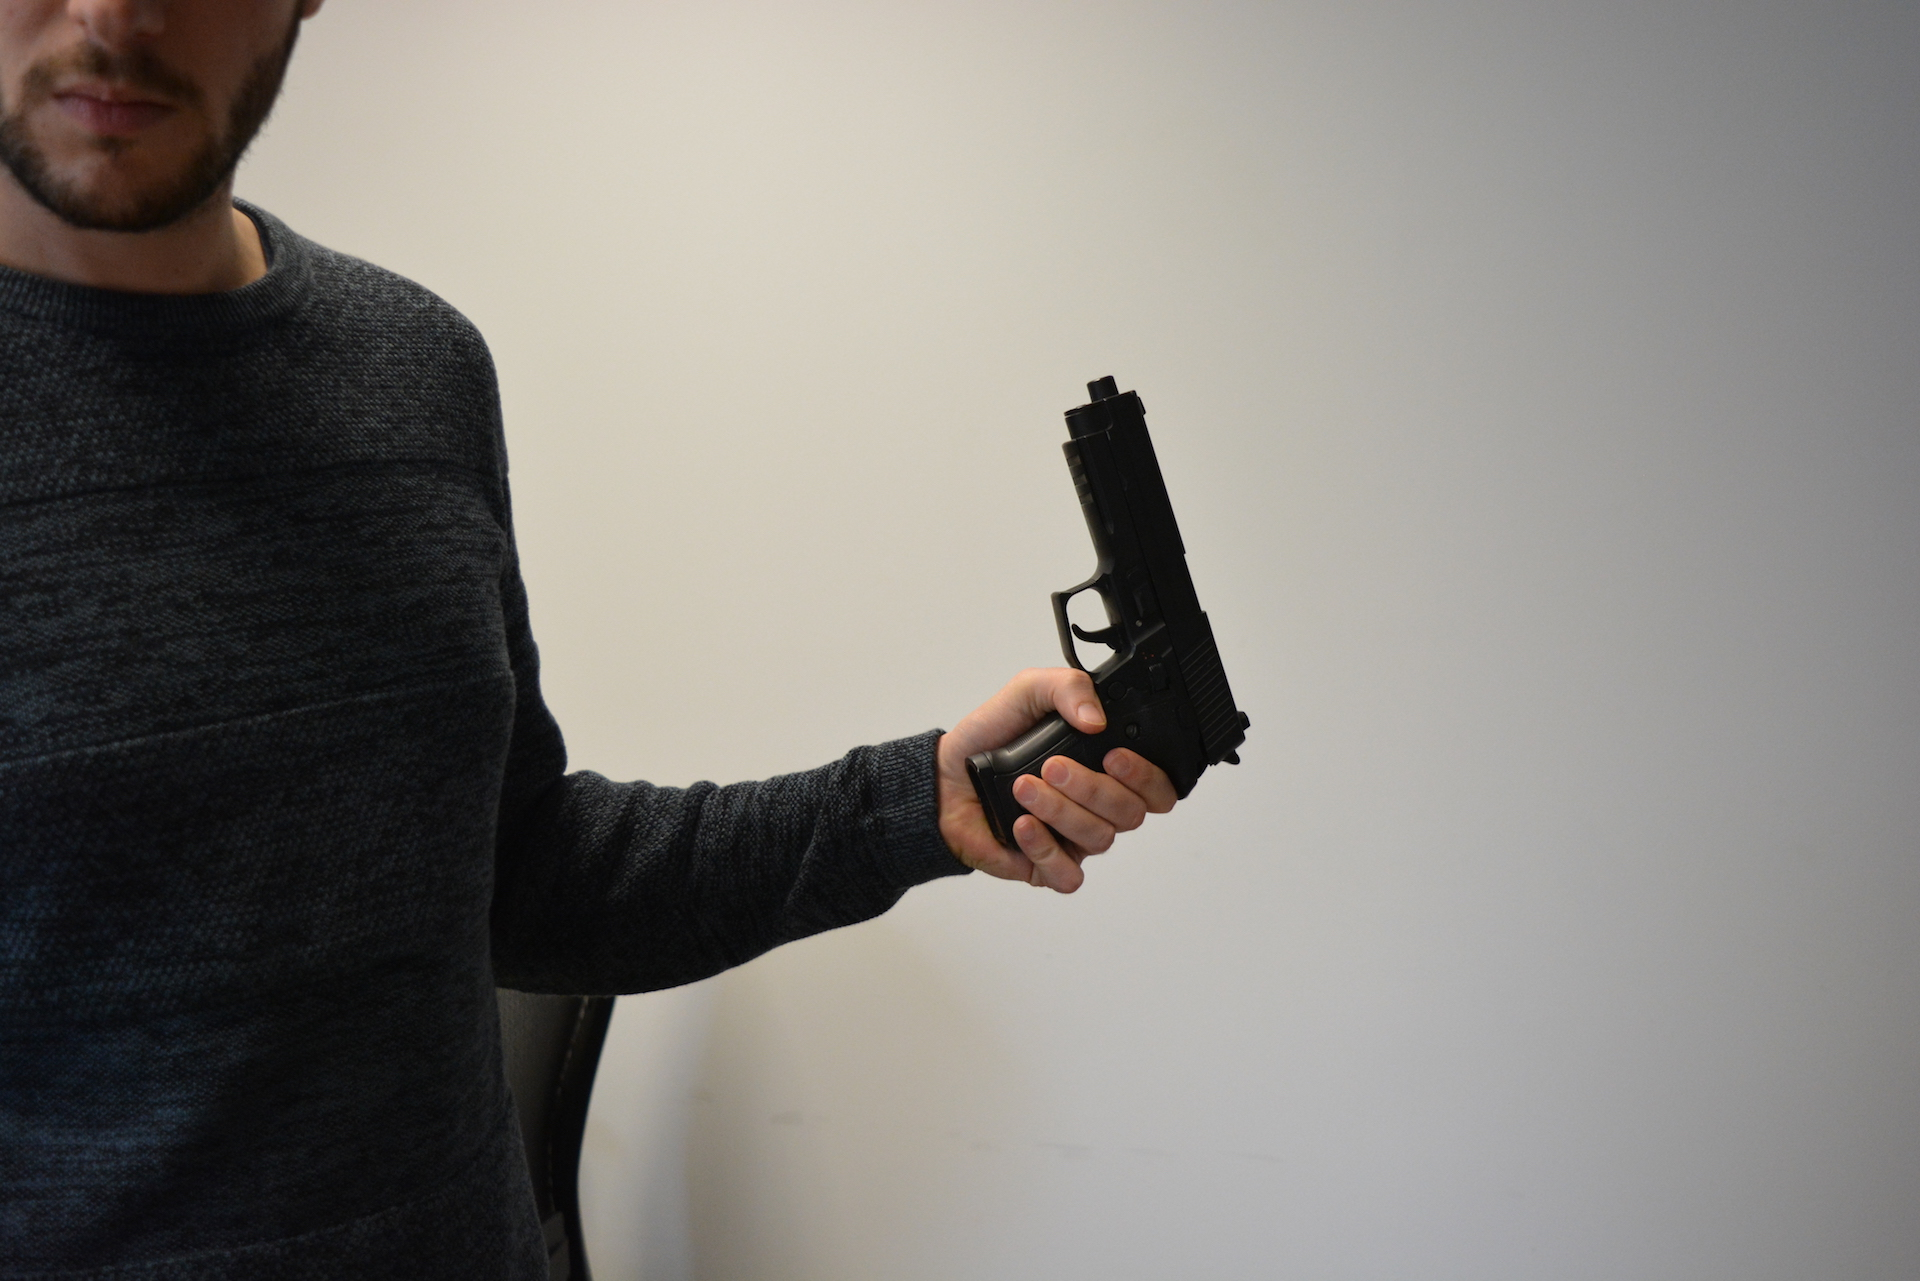pistol: (962, 372, 1255, 856)
